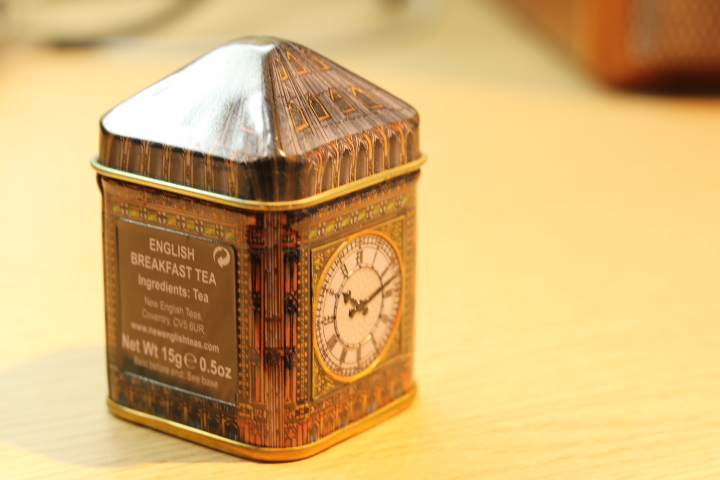Big Ben: (72, 25, 455, 472)
